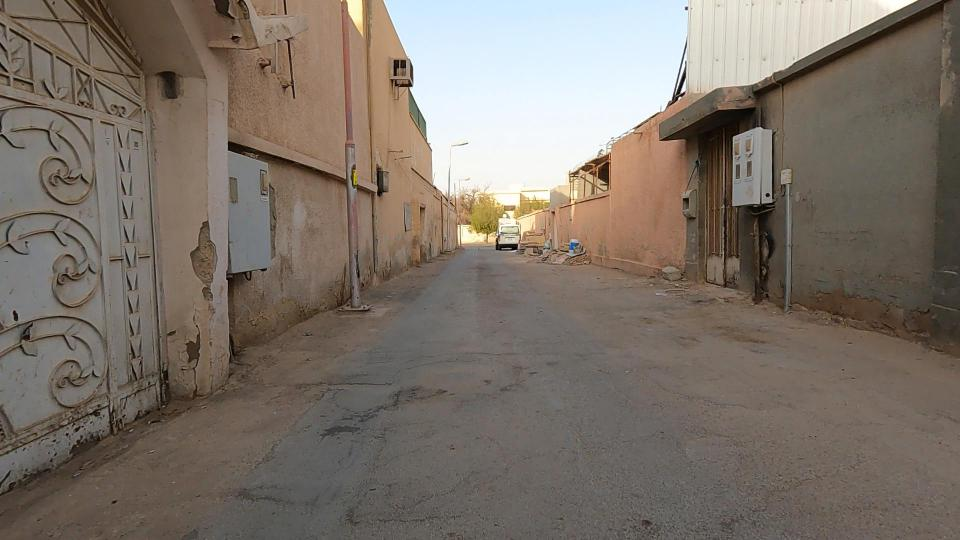GARBAGE: (484, 199, 665, 303)
